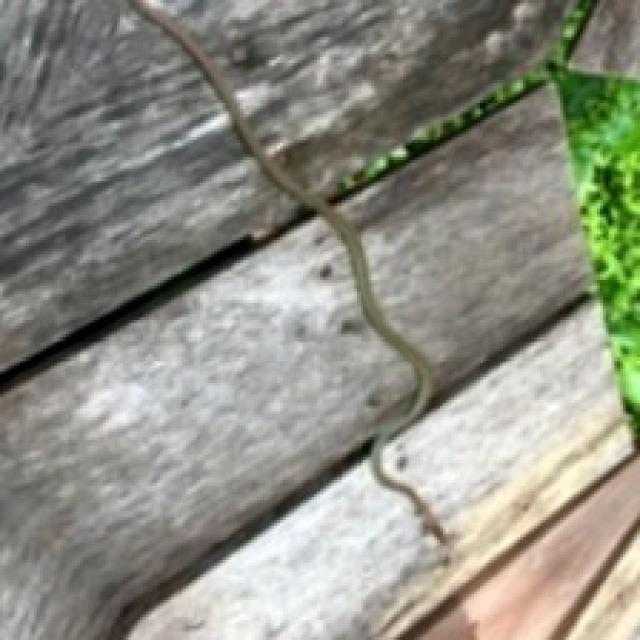paradise tree snake: (129, 0, 446, 543)
